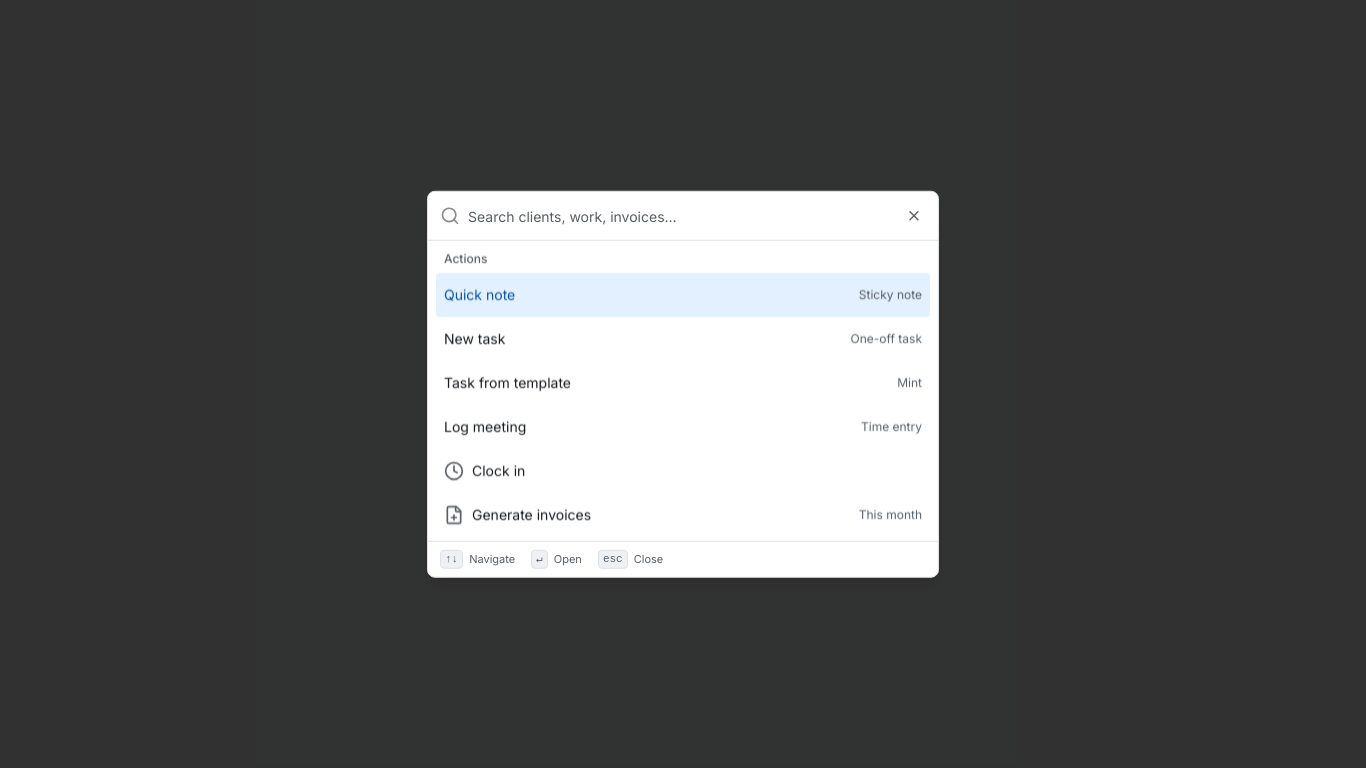
Test: CommandMenu palette › runs a debounced search and renders grouped results
This screenshot has width=1366, height=768.
Type "har" into the dropdown with placeholder "Search clients, work, invoices…".
click(697, 216); type("har")  # box [468,192,926,240]
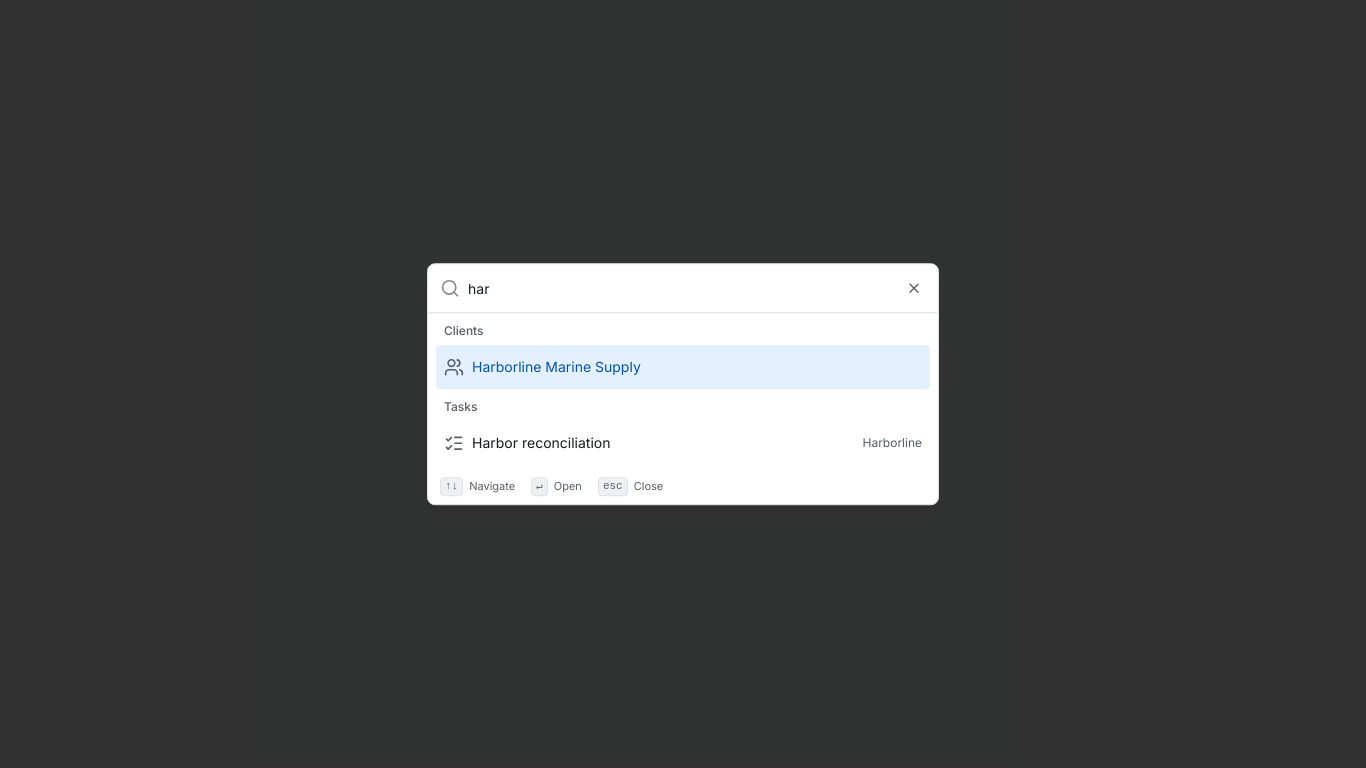
Now the text "Clients" is shown, box [444,323,484,338]
Now the text "Harborline Marine Supply" is shown, box [472,358,641,375]
Now the text "Tasks" is shown, box [444,399,477,414]
